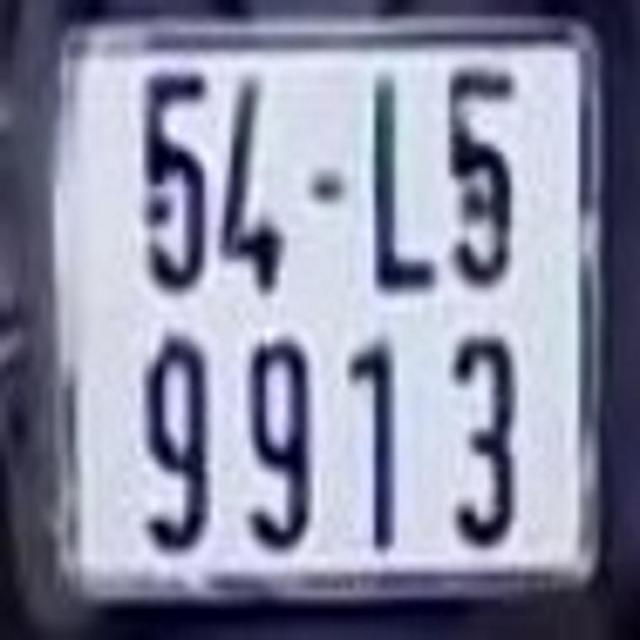1: (345, 346, 403, 545)
3: (132, 331, 211, 544), (446, 337, 516, 545)
4: (218, 81, 289, 288)
5: (443, 73, 517, 280), (142, 73, 209, 282)
9: (248, 338, 306, 540)
L: (364, 74, 439, 290)
